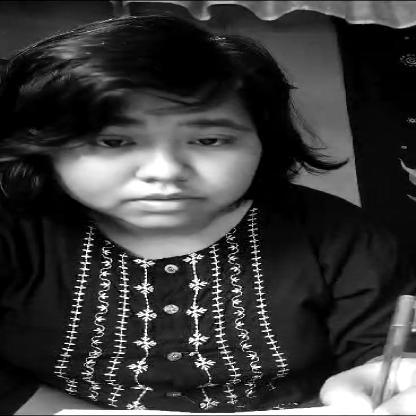Normal: (32, 90, 282, 230)
